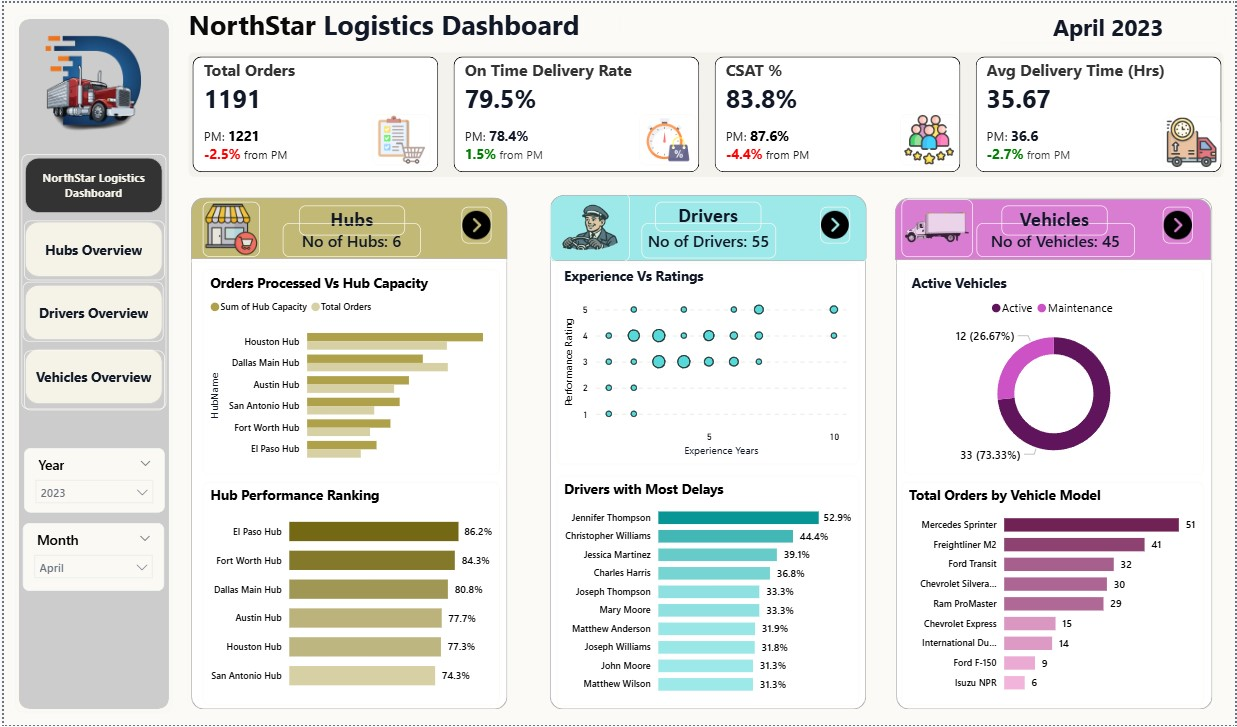

This screenshot's page, from the dashboard's own definition file:
{"tool":"powerbi","page":{"name":"NorthStar Logistics Dashboard","canvas":[1450,850],"ordinal":0},"visuals":[{"type":"shape","box":[13.3,15,185,820],"z":0},{"type":"textbox","box":[215.7,2.9,508.6,47.1],"z":1000},{"type":"cardVisual","fields":{"Data":["_Measures.Total Orders","_Measures.On Time Delivery Rate","_Measures.CSAT %","_Measures.AVG Delivery Time (Hrs)"]},"box":[216.7,56.7,1220,148.3],"z":2000},{"type":"slicer","fields":{"Values":["Date Table.Year"]},"box":[22.9,522.9,165.7,75.7],"z":3000},{"type":"slicer","fields":{"Values":["Date Table.Month"]},"box":[21.7,611.7,166.7,80],"z":4000},{"type":"shape","box":[216.7,225,380,610],"z":5000},{"type":"shape","box":[216.7,225,380,80],"z":6000},{"type":"textbox","box":[346.3,237.5,125,35],"z":7000,"group":"g1"},{"type":"clusteredBarChart","title":"Orders Processed Vs Hub Capacity","fields":{"Category":["Hubs_Dim.HubName"],"Y":["Sum(Hubs_Dim.Hub Capacity)","_Measures.Total Orders"]},"box":[233.7,313.8,349.8,241.9],"z":7000},{"type":"shape","box":[638.3,225,380,610],"z":8000},{"type":"cardVisual","fields":{"Data":["Hubs_Dim.No of Hubs"]},"box":[327.5,258.7,162.5,40],"z":8000,"group":"g1"},{"type":"shape","box":[641.2,225.6,375,80],"z":9000},{"type":"shape","box":[1045,225,380,610],"z":10000},{"type":"shape","box":[1044,226,380,80],"z":11000},{"type":"scatterChart","title":"Experience Vs Ratings","fields":{"X":["Drivers_Dim.Experience Years"],"Y":["Drivers_Dim.Performance Rating"],"Size":["CountNonNull(Drivers_Dim.Experience Years)1"]},"box":[650.5,305.6,356.3,237],"z":12000},{"type":"barChart","title":"Drivers with Most Delays","fields":{"Category":["Drivers_Dim.DriverName"],"Y":["_Measures.Delayed Delivery Rate"]},"box":[650.5,555.7,356.3,271.3],"z":13000},{"type":"cardVisual","fields":{"Data":["Drivers_Dim.No of Drivers"]},"box":[750,258.8,158.1,41.2],"z":14000,"group":"g2"},{"type":"donutChart","title":"Active Vehicles","fields":{"Category":["Vehicles_Dim.Vehicle Status"],"Y":["CountNonNull(Vehicles_Dim.Vehicle ID)"]},"box":[1059.1,313.8,353,241.9],"z":14000},{"type":"textbox","box":[766.2,233.8,125,35],"z":15000,"group":"g2"},{"type":"barChart","title":"Hub Performance Ranking","fields":{"Category":["Hubs_Dim.HubName"],"Y":["_Measures.On Time Delivery Rate"]},"box":[233.7,563.9,349.8,263.1],"z":15000},{"type":"barChart","fields":{"Category":["Vehicles_Dim.Vehicle Model"],"Y":["_Measures.Total Orders"]},"box":[1055.8,563.9,356.3,263.1],"z":16000},{"type":"image","box":[23.1,26.2,166.2,138.5],"z":17000},{"type":"cardVisual","fields":{"Data":["_Measures.Year Month title"]},"box":[1161.7,6.7,275,40],"z":18000},{"type":"cardVisual","fields":{"Data":["Vehicles_Dim.No of Vehicles"]},"box":[1143.8,258.7,186.2,40],"z":18000,"group":"g3"},{"type":"textbox","box":[1173.8,237.5,125,35],"z":19000,"group":"g3"},{"type":"image","box":[960,240,35,43.3],"z":19000},{"type":"image","box":[538.9,240,35.6,43.3],"z":20000},{"type":"pageNavigator","box":[20,178.6,170,300],"z":21000},{"type":"image","box":[1363.3,240,35.6,43.3],"z":22000},{"type":"actionButton","box":[22.9,255.7,165.7,70],"z":23000},{"type":"actionButton","box":[21.4,328.6,165.7,70],"z":24000},{"type":"actionButton","box":[22.9,408.6,165.7,70],"z":25000},{"type":"image","box":[233.8,233.8,67.5,65],"z":26000},{"type":"image","box":[642.4,223.8,93.8,80.8],"z":27000},{"type":"image","box":[1055.3,231,83.7,67.9],"z":28000},{"type":"image","box":[434.2,130.8,68.3,60],"z":29000},{"type":"image","box":[747.5,130.8,68.3,60],"z":30000},{"type":"image","box":[1055,130.8,68.3,60],"z":31000},{"type":"image","box":[1363.3,134.2,68.3,60],"z":32000},{"type":"group","id":"g1","title":"Group 1","box":[327.5,237.5,162.5,61.2],"z":33000},{"type":"group","id":"g2","title":"Group 2","box":[750,233.8,158.1,66.2],"z":34000},{"type":"group","id":"g3","title":"Group 3","box":[1143.8,237.5,186.2,61.2],"z":35000}]}

Visuals, with their boxes on the page's 1450x850 design canvas (x1, y1, x2, y2). These are canvas units, not pixel positions in the 1237x727 screenshot, which may show the page scaled, cropped or inside an application window:
shape: left=13, top=15, right=198, bottom=835
textbox: left=216, top=3, right=724, bottom=50
cardVisual - _Measures.Total Orders x _Measures.On Time Delivery Rate: left=217, top=57, right=1437, bottom=205
slicer - Date Table.Year: left=23, top=523, right=189, bottom=599
slicer - Date Table.Month: left=22, top=612, right=188, bottom=692
shape: left=217, top=225, right=597, bottom=835
shape: left=217, top=225, right=597, bottom=305
textbox: left=346, top=238, right=471, bottom=272
"Orders Processed Vs Hub Capacity" clusteredBarChart: left=234, top=314, right=584, bottom=556
shape: left=638, top=225, right=1018, bottom=835
cardVisual - Hubs_Dim.No of Hubs: left=328, top=259, right=490, bottom=299
shape: left=641, top=226, right=1016, bottom=306
shape: left=1045, top=225, right=1425, bottom=835
shape: left=1044, top=226, right=1424, bottom=306
"Experience Vs Ratings" scatterChart: left=650, top=306, right=1007, bottom=543
"Drivers with Most Delays" barChart: left=650, top=556, right=1007, bottom=827
cardVisual - Drivers_Dim.No of Drivers: left=750, top=259, right=908, bottom=300
"Active Vehicles" donutChart: left=1059, top=314, right=1412, bottom=556
textbox: left=766, top=234, right=891, bottom=269
"Hub Performance Ranking" barChart: left=234, top=564, right=584, bottom=827
barChart - Vehicles_Dim.Vehicle Model x _Measures.Total Orders: left=1056, top=564, right=1412, bottom=827
image: left=23, top=26, right=189, bottom=165
cardVisual - _Measures.Year Month title: left=1162, top=7, right=1437, bottom=47
cardVisual - Vehicles_Dim.No of Vehicles: left=1144, top=259, right=1330, bottom=299
textbox: left=1174, top=238, right=1299, bottom=272
image: left=960, top=240, right=995, bottom=283
image: left=539, top=240, right=574, bottom=283
pageNavigator: left=20, top=179, right=190, bottom=479
image: left=1363, top=240, right=1399, bottom=283
actionButton: left=23, top=256, right=189, bottom=326
actionButton: left=21, top=329, right=187, bottom=399
actionButton: left=23, top=409, right=189, bottom=479
image: left=234, top=234, right=301, bottom=299
image: left=642, top=224, right=736, bottom=305
image: left=1055, top=231, right=1139, bottom=299
image: left=434, top=131, right=502, bottom=191
image: left=748, top=131, right=816, bottom=191
image: left=1055, top=131, right=1123, bottom=191
image: left=1363, top=134, right=1432, bottom=194
"Group 1" group: left=328, top=238, right=490, bottom=299
"Group 2" group: left=750, top=234, right=908, bottom=300
"Group 3" group: left=1144, top=238, right=1330, bottom=299
